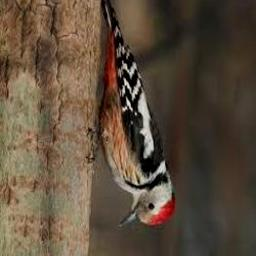Woodpecker: (87, 0, 175, 227)
